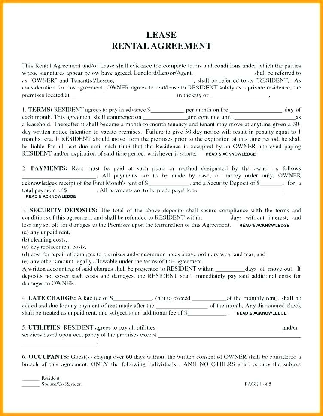textline: (156, 333, 305, 341), (156, 324, 284, 333), (72, 91, 176, 100), (199, 187, 287, 196), (21, 340, 100, 349), (117, 76, 193, 85), (193, 68, 257, 78), (209, 91, 272, 101), (23, 172, 98, 180), (157, 300, 207, 310), (233, 114, 296, 121), (229, 105, 284, 113), (148, 179, 192, 188), (189, 309, 230, 318), (141, 114, 187, 122), (113, 294, 153, 303), (150, 105, 185, 115), (193, 293, 226, 303), (215, 263, 246, 273), (68, 187, 97, 196), (22, 370, 42, 382), (20, 381, 42, 391), (261, 179, 284, 188), (203, 214, 228, 222)
